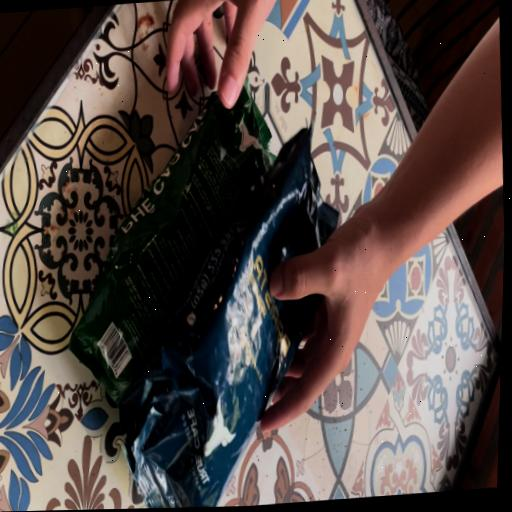cafe_hat: (118, 130, 337, 508)
cafe_xay: (69, 85, 271, 403)
